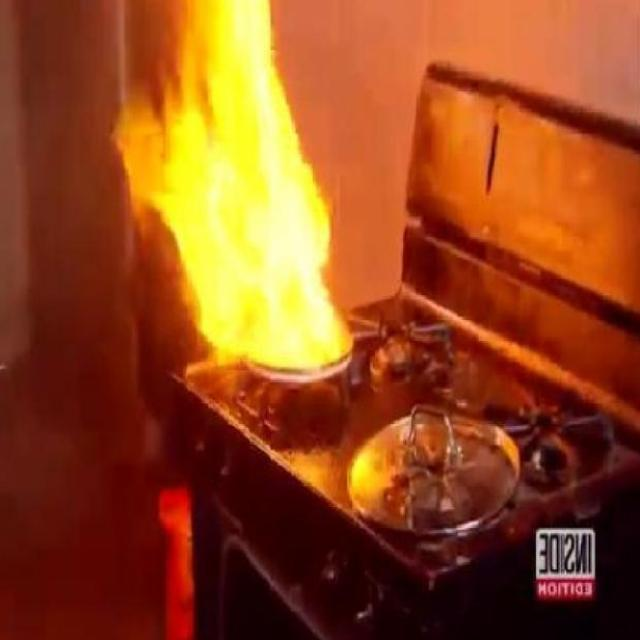smoke: (176, 25, 341, 382)
